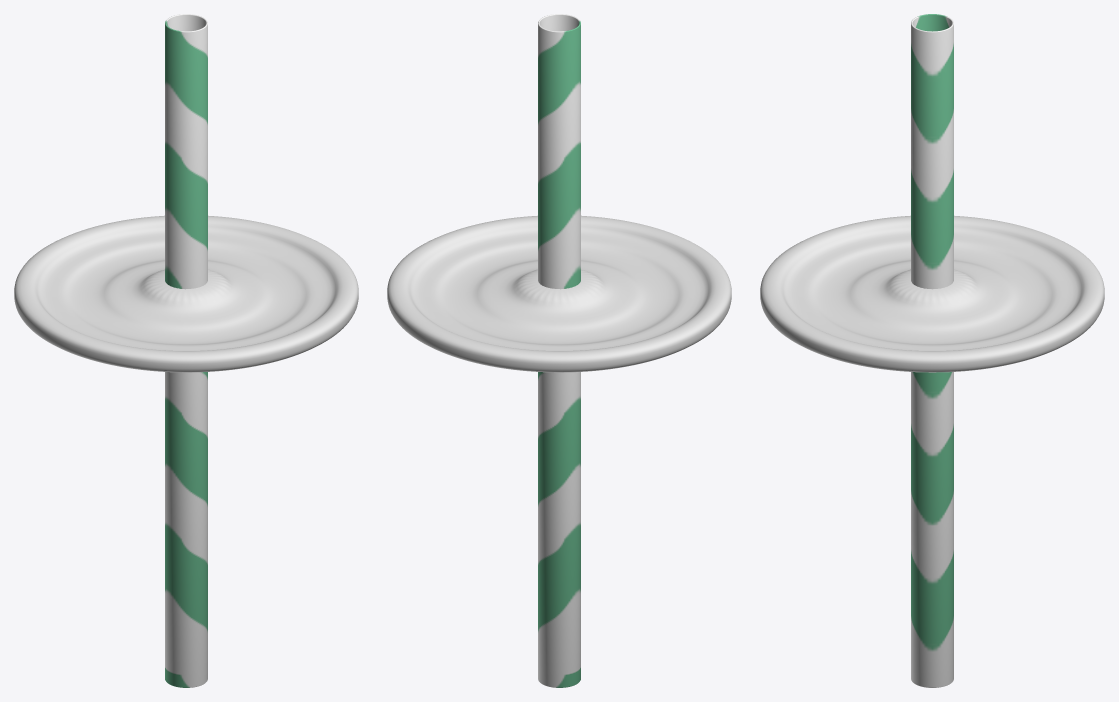
Rendered from Starw.fbx.
3 views of the same model, side by side, from view 1: azimuth 30°, elevation 25°; view 2: azimuth 150°, elevation 25°; view 3: azimuth 270°, elevation 25° (orthographic).
Visible parts, largest first — view 1: Cylinder; view 2: Cylinder; view 3: Cylinder.
Part boxes in pixels (left/top/right/bottom): Cylinder: left=14, top=14, right=358, bottom=687; Cylinder: left=387, top=14, right=731, bottom=687; Cylinder: left=760, top=14, right=1104, bottom=687.
Bounding box in the file's own units: 989 × 2078 × 989.
